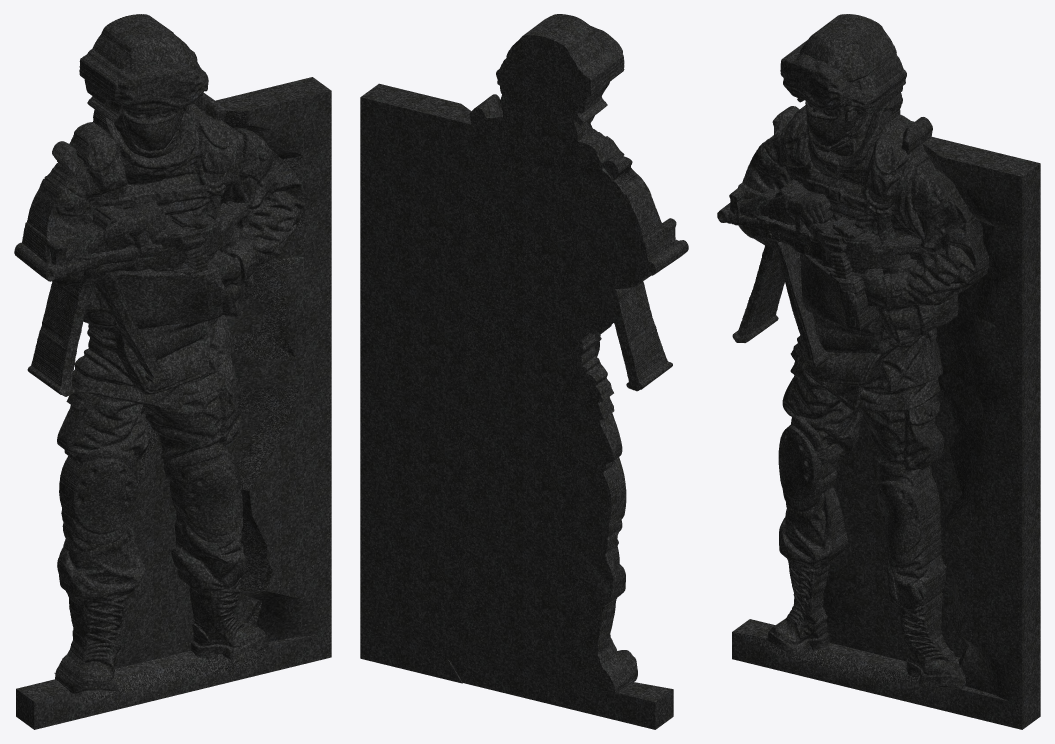
File: relief10.glb
3 renders of one model, left to right at view 1: azimuth 30°, elevation 25°; view 2: azimuth 150°, elevation 25°; view 3: azimuth 330°, elevation 25°, orthographic. The views are drawn at different scales.
Parts seen in each view (by area): view 1: Стела с барельефом солдата; view 2: Стела с барельефом солдата; view 3: Стела с барельефом солдата.
Part boxes in pixels (left/top/right/bottom): Стела с барельефом солдата: left=14, top=14, right=331, bottom=729; Стела с барельефом солдата: left=360, top=14, right=688, bottom=729; Стела с барельефом солдата: left=717, top=14, right=1040, bottom=729.
Size of the model in its own units: 0.6035 by 1.3 by 0.1833.
2 materials, 2 textured.
